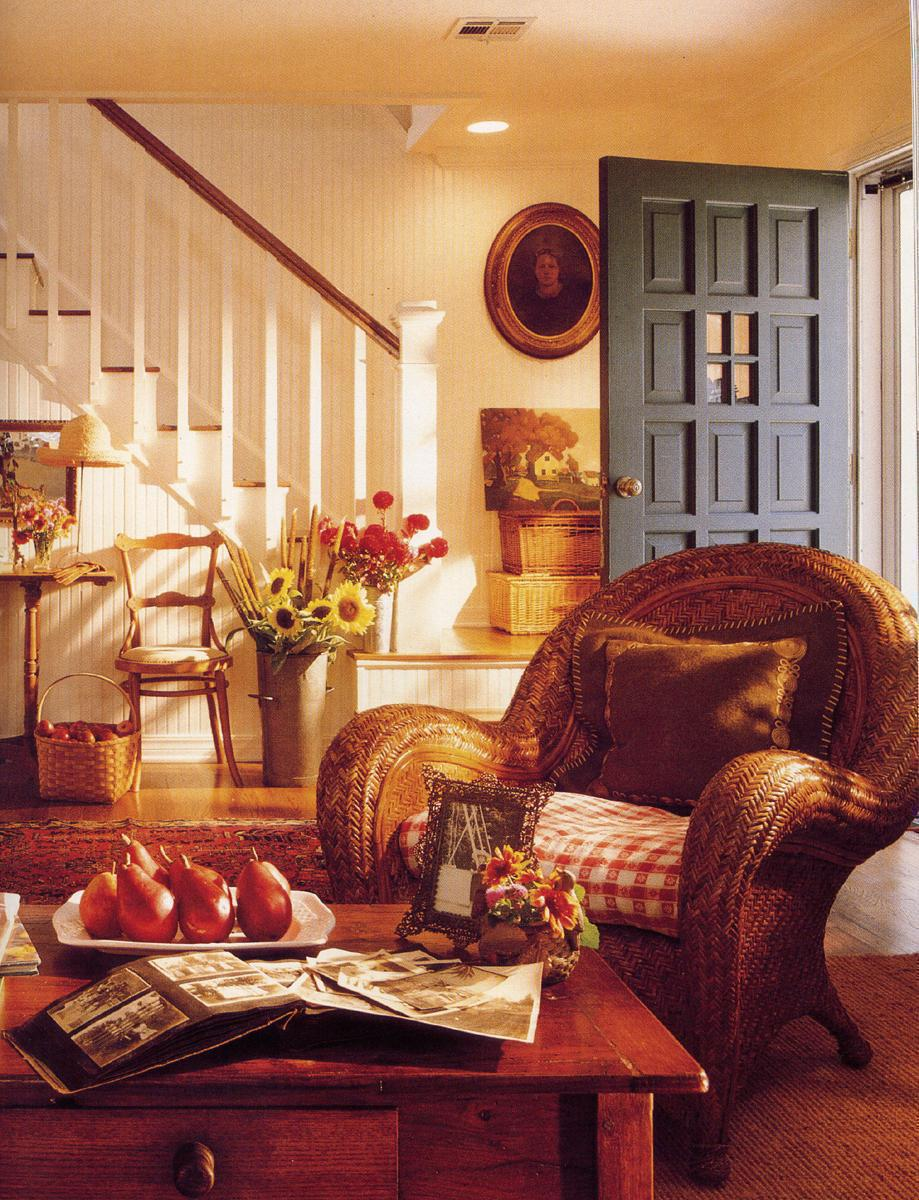Escaleras: (6, 110, 502, 714)
Puerta: (606, 165, 855, 549)
